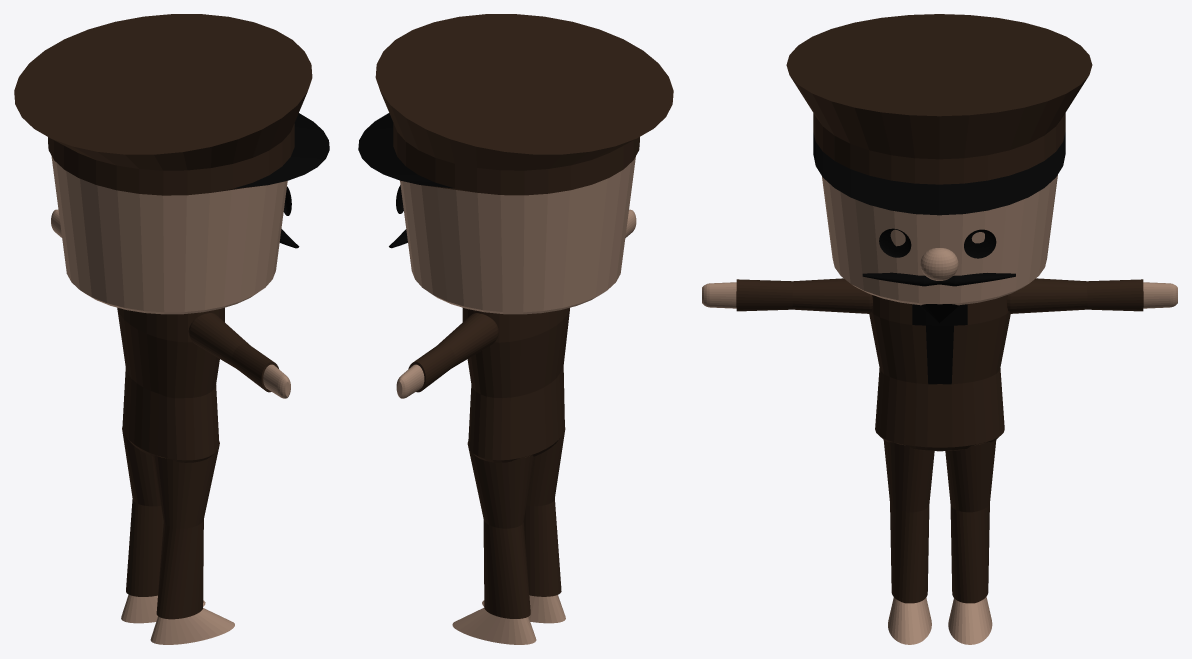
Rendered from brown_goatee.fbx.
3 views of the same model, side by side, from view 1: azimuth 30°, elevation 25°; view 2: azimuth 150°, elevation 25°; view 3: azimuth 270°, elevation 25° (orthographic). The views are drawn at different scales.
Parts seen in each view (by area): view 1: Hat.001, Headd.002, Cylinder.049, Cylinder.052, Cylinder.053, Cylinder.050, Cylinder.047, Cylinder.038, Cylinder.055; view 2: Hat.001, Headd.002, Cylinder.049, Cylinder.053, Cylinder.052, Cylinder.051, Cylinder.038, Cylinder.047, Cylinder.056; view 3: Hat.001, Cylinder.049, Headd.002, Cylinder.053, Cylinder.052, Cylinder.051, Cylinder.050, Cylinder.038, Cylinder.047, Cylinder.014, Eyes.007, Sphere.002 (+2 smaller).
Boxes of the visible parts, left/top/right/bottom form: Hat.001: left=14, top=14, right=329, bottom=195; Headd.002: left=51, top=155, right=287, bottom=314; Cylinder.049: left=117, top=307, right=224, bottom=462; Cylinder.052: left=152, top=442, right=219, bottom=619; Cylinder.053: left=122, top=426, right=163, bottom=596; Cylinder.050: left=188, top=313, right=278, bottom=392; Cylinder.047: left=150, top=608, right=234, bottom=644; Cylinder.038: left=121, top=594, right=205, bottom=623; Cylinder.055: left=263, top=364, right=290, bottom=398; Hat.001: left=358, top=14, right=673, bottom=195; Headd.002: left=400, top=156, right=635, bottom=314; Cylinder.049: left=462, top=308, right=569, bottom=462; Cylinder.053: left=467, top=441, right=534, bottom=618; Cylinder.052: left=523, top=427, right=565, bottom=596; Cylinder.051: left=408, top=313, right=498, bottom=392; Cylinder.038: left=452, top=608, right=536, bottom=644; Cylinder.047: left=482, top=595, right=565, bottom=623; Cylinder.056: left=396, top=364, right=424, bottom=398; Hat.001: left=786, top=14, right=1092, bottom=215; Cylinder.049: left=869, top=295, right=1010, bottom=451; Headd.002: left=822, top=175, right=1057, bottom=305; Cylinder.053: left=945, top=440, right=996, bottom=603; Cylinder.052: left=883, top=440, right=934, bottom=603; Cylinder.051: left=1007, top=278, right=1143, bottom=313; Cylinder.050: left=736, top=278, right=872, bottom=313; Cylinder.038: left=948, top=597, right=992, bottom=644; Cylinder.047: left=888, top=597, right=931, bottom=644; Cylinder.014: left=862, top=272, right=1015, bottom=286; Eyes.007: left=879, top=228, right=996, bottom=258; Sphere.002: left=920, top=248, right=958, bottom=280.
Size of the model in its own units: 239 by 453 by 346.
